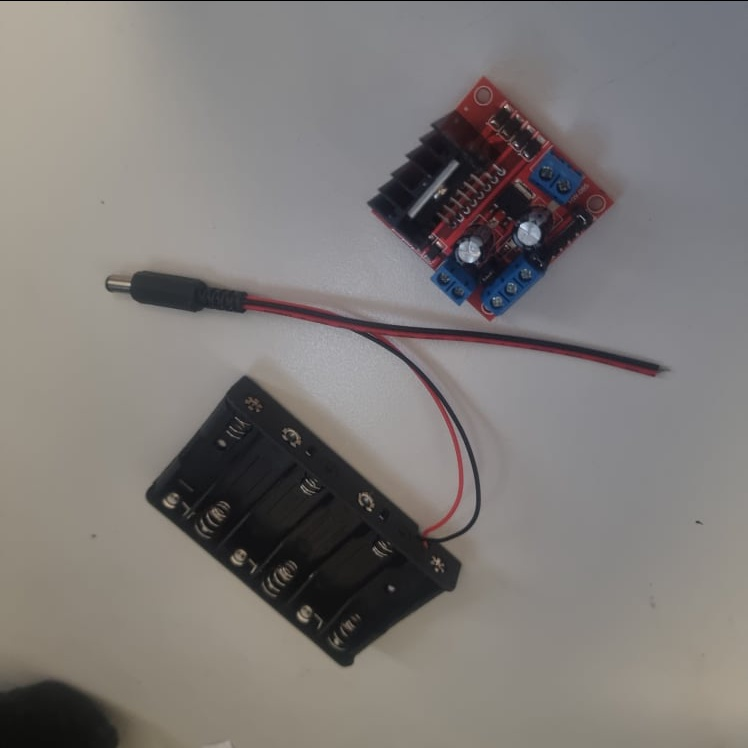BATTERY BOX: (147, 374, 464, 667)
MOTOR: (368, 73, 616, 325)
